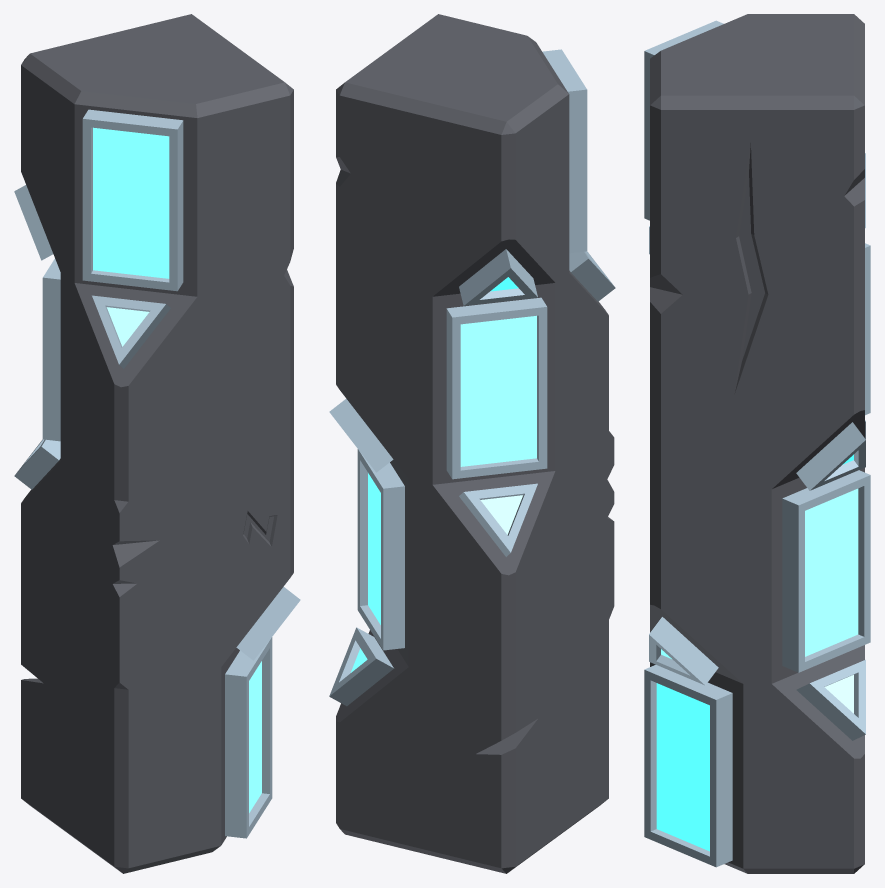
Rendered from Pillar_Medium.fbx.
3 views of the same model, side by side, from view 1: azimuth 30°, elevation 25°; view 2: azimuth 150°, elevation 25°; view 3: azimuth 270°, elevation 25° (orthographic). The views are drawn at different scales.
Visible parts, largest first — view 1: Pillar_Medium; view 2: Pillar_Medium; view 3: Pillar_Medium.
Part boxes in pixels (<box>): Pillar_Medium: <box>14,14,300,873</box>; Pillar_Medium: <box>329,14,615,873</box>; Pillar_Medium: <box>644,14,870,873</box>.
Bounding box in the file's own units: 2.11 × 8 × 2.11.
